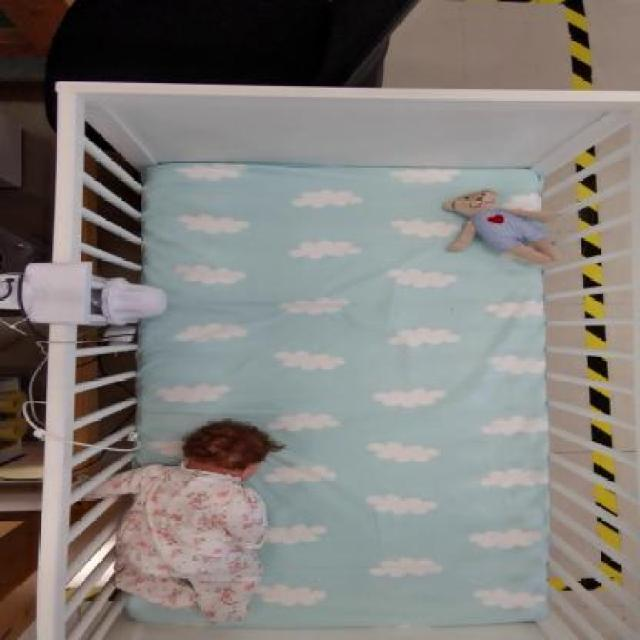baby: (72, 418, 290, 624)
